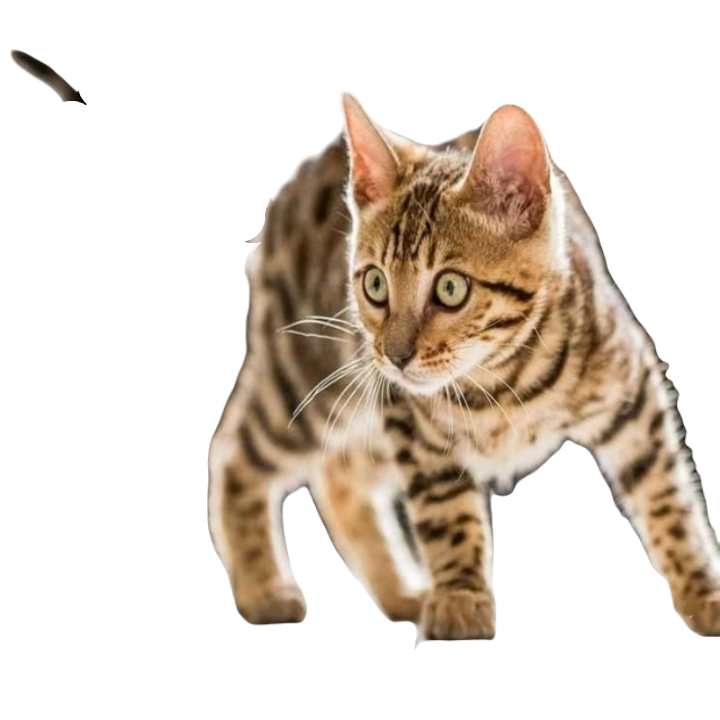Cat: (2, 33, 719, 644)
